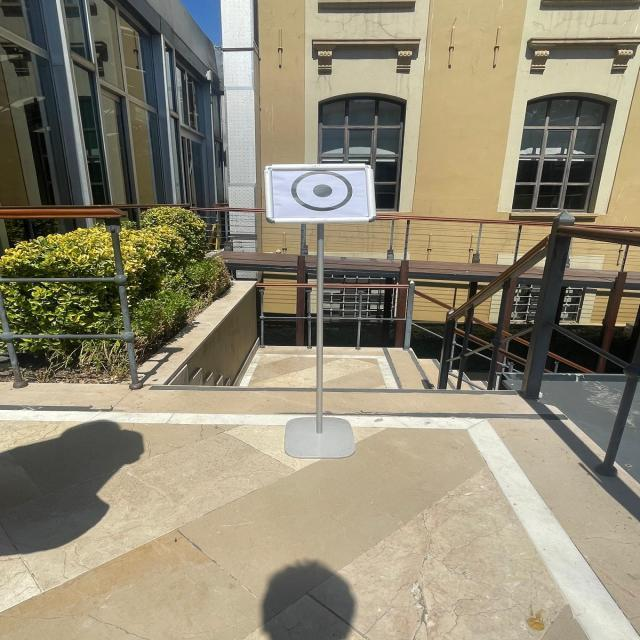Target: (239, 149, 407, 238)
inner: (309, 181, 337, 201)
